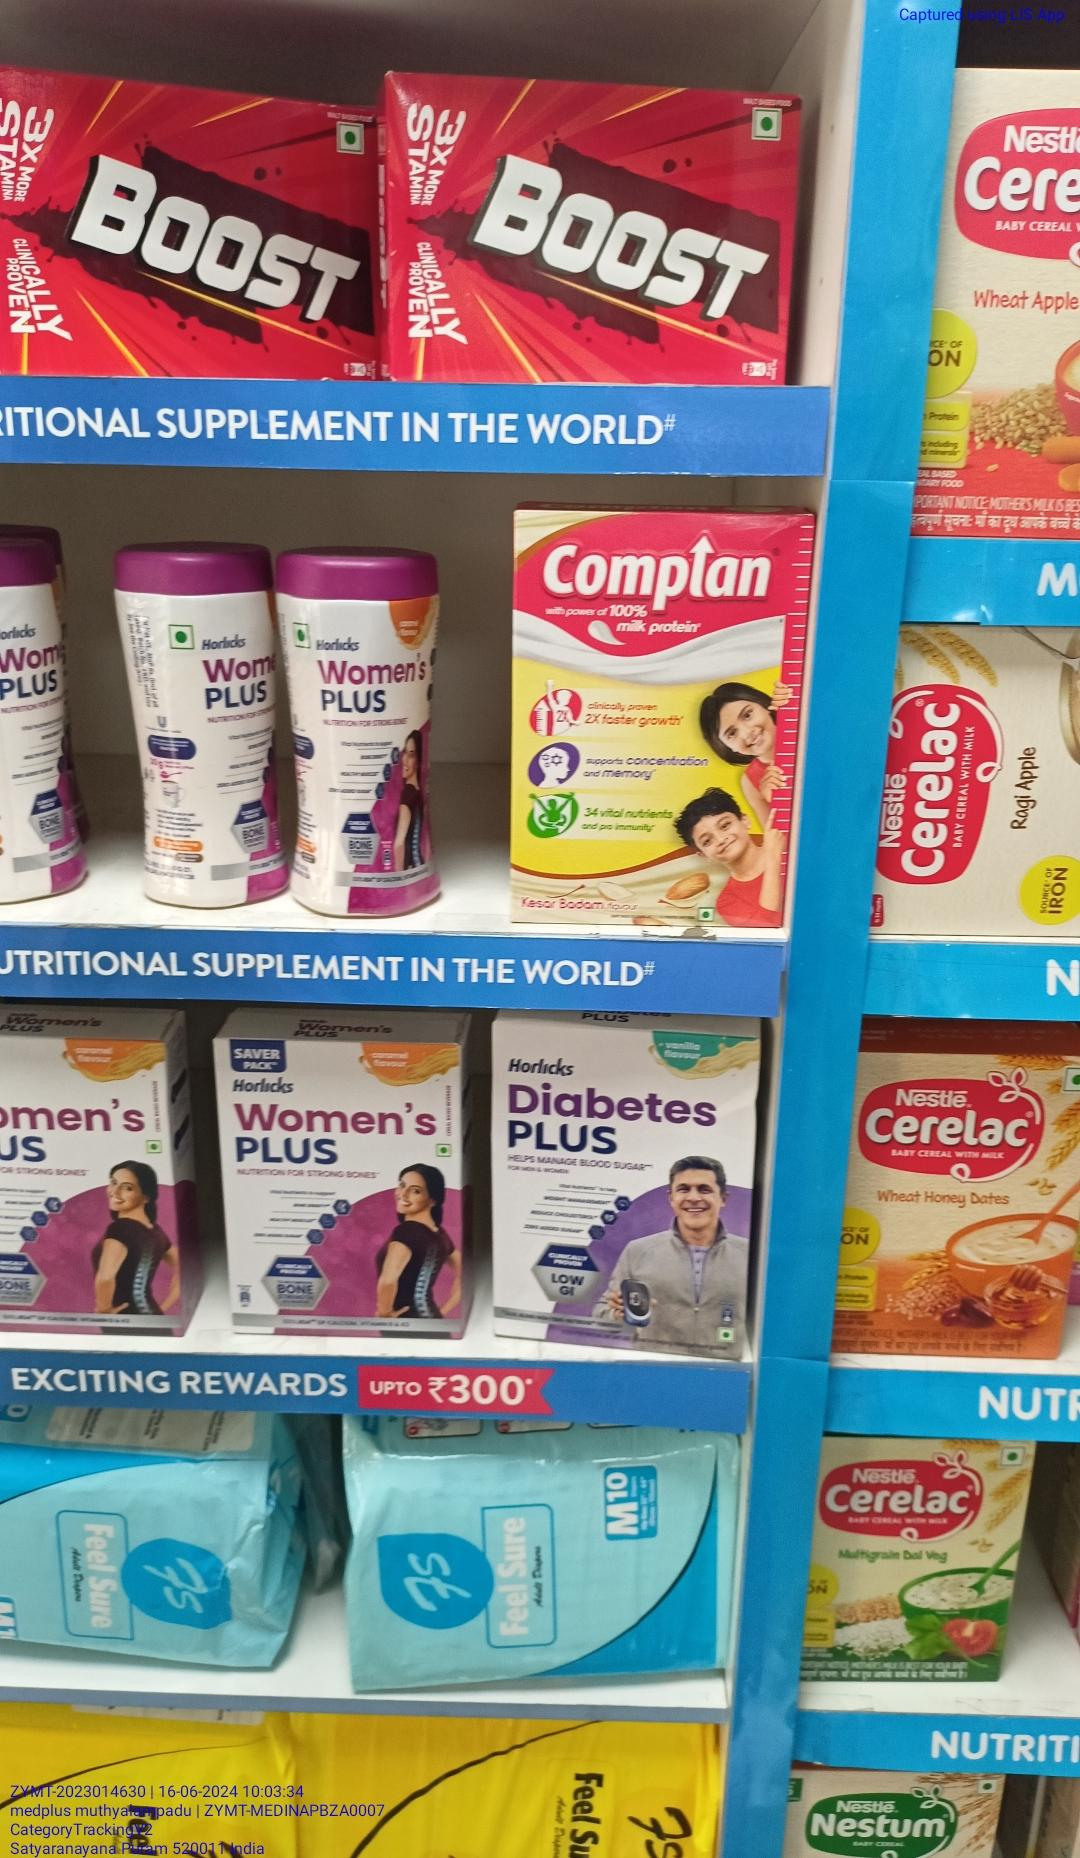COMPLAN_KESAR_BADAM_500_GMS_PACK: (510, 503, 788, 927)
